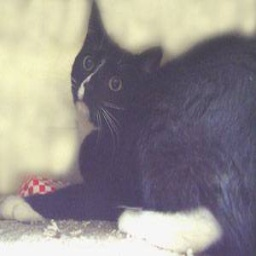cat: (7, 9, 256, 253)
